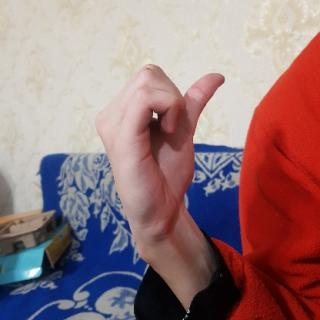WAW: (90, 56, 236, 252)
